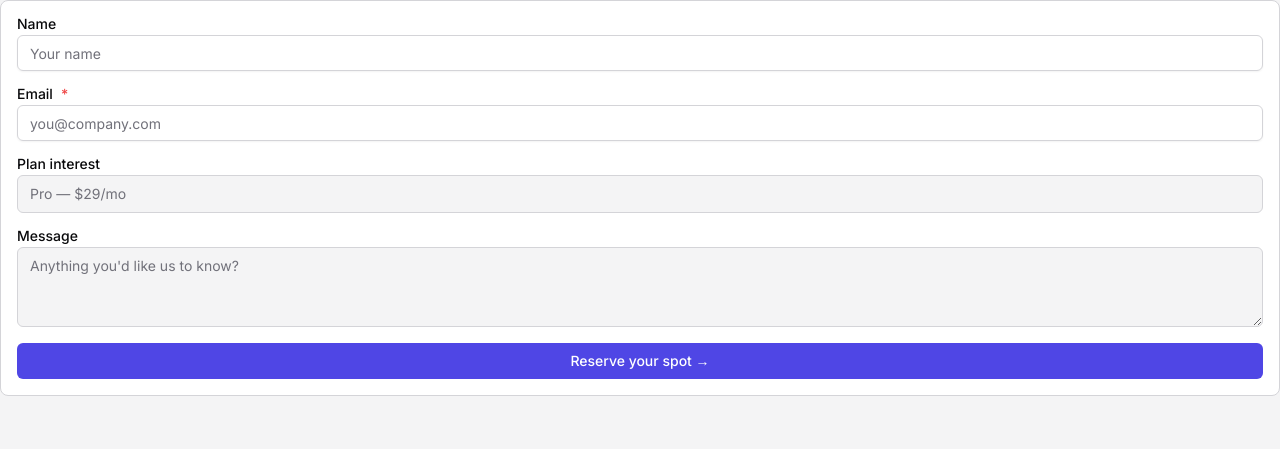
Test case: WaitlistForm › shows a generic error message when the API returns no error field
In the field labelled "Email *": (640, 123) [17, 105, 1263, 141], type "user@example.com"
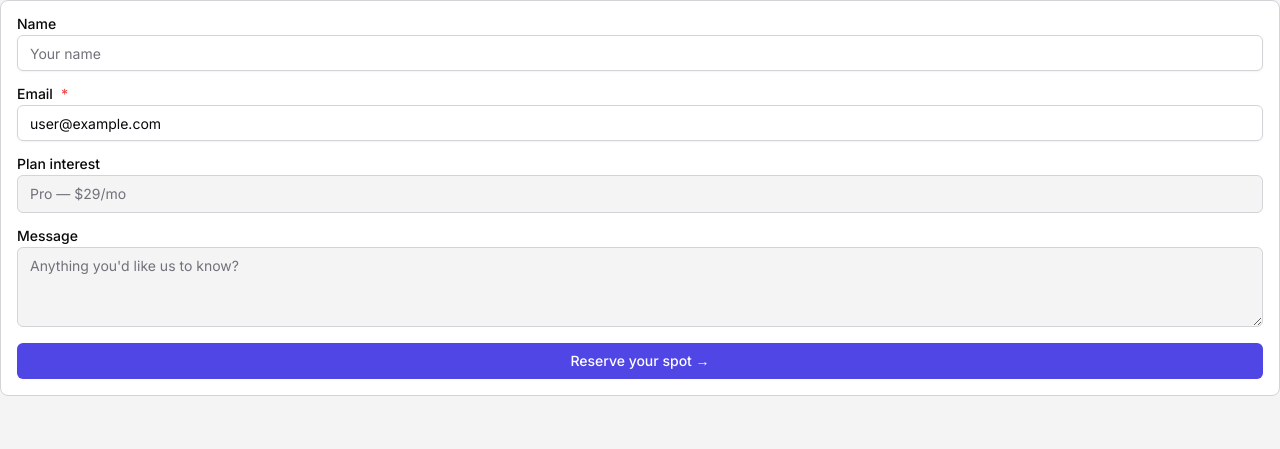
Submit the form "Reserve your spot"
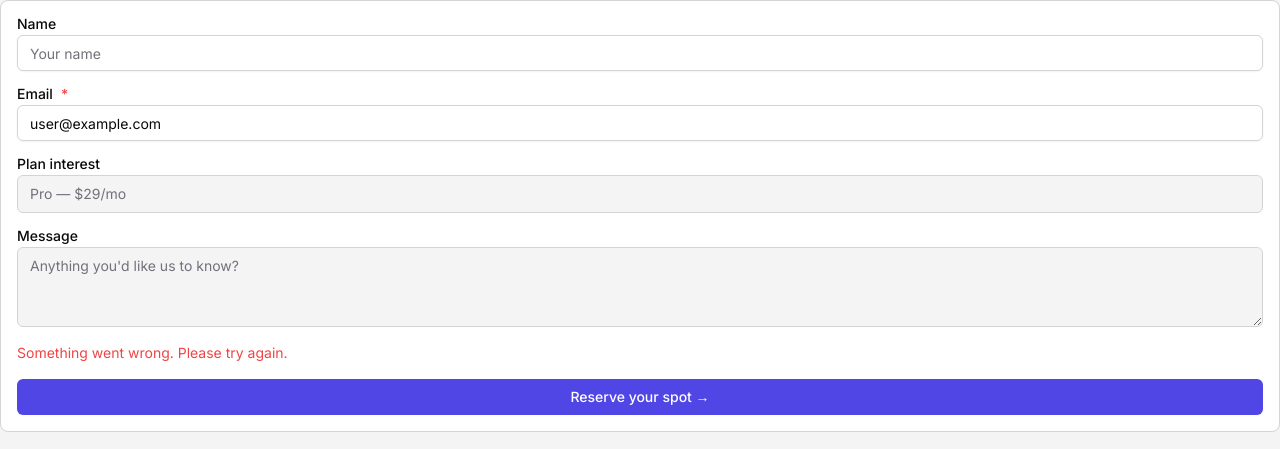
Expected: the message shows "Something went wrong", [17, 344, 288, 361]
